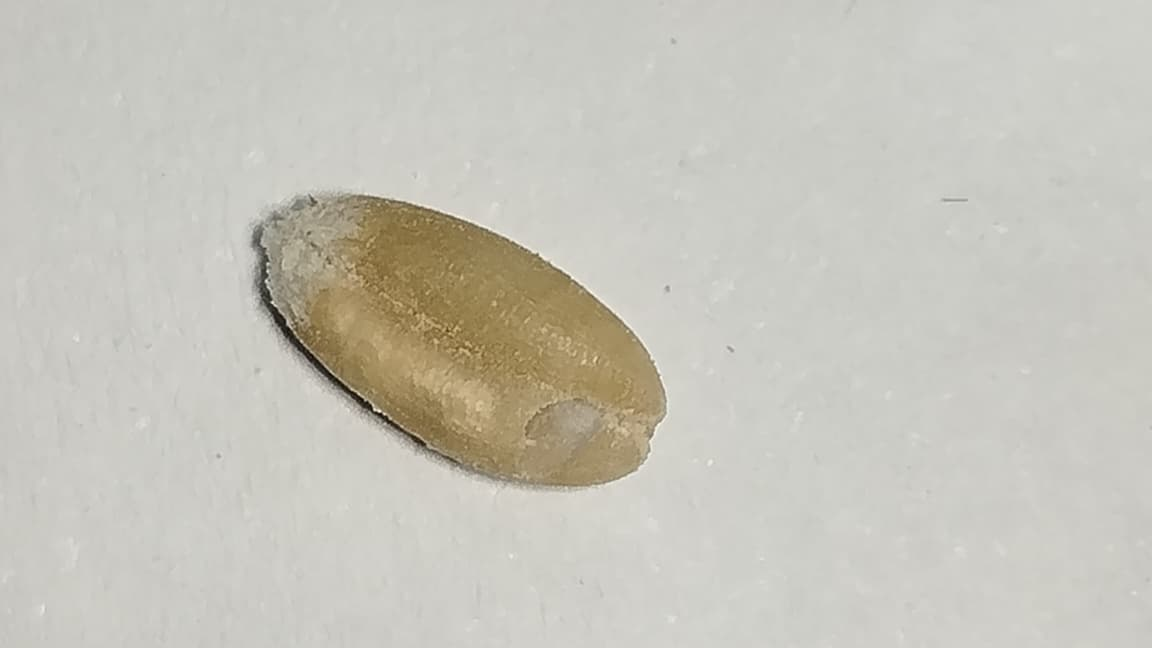damage: (262, 195, 664, 484)
insectdamage: (507, 383, 647, 478)
